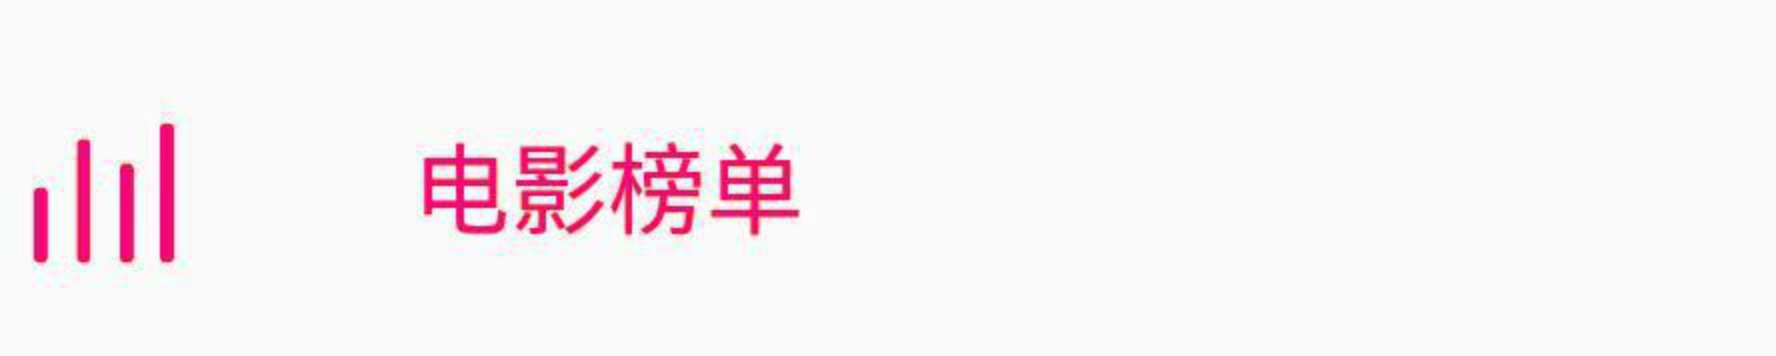CheckedTextView: (1, 1, 1775, 355)
